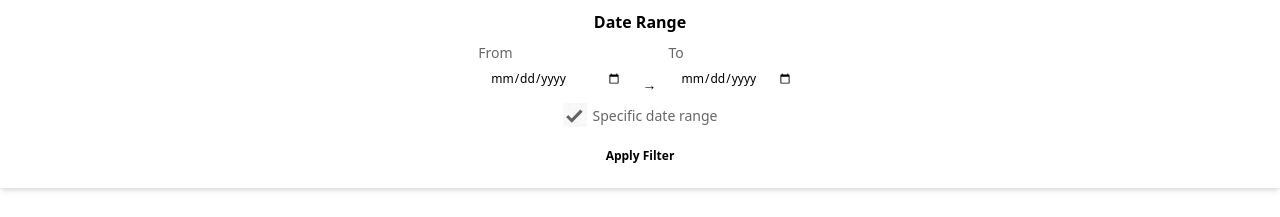
Test: DatePicker › shows month/year selects when checkbox is unchecked
Expected: the text "From" is shown, left=478, top=42, right=512, bottom=63
Expected: the text "To" is shown, left=668, top=42, right=684, bottom=63
Note: Uncheck the checkbox to switch to month/year mode
Click the checkbox labelled "Specific date range": (574, 115) left=562, top=103, right=586, bottom=127
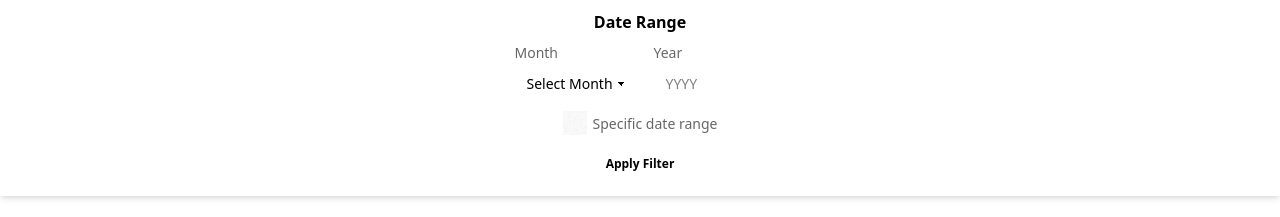
Expected: the number field with placeholder "YYYY" is shown, left=654, top=63, right=766, bottom=103
Now the dropdown showing "Select Month" is shown, box left=514, top=63, right=642, bottom=103
Now the text "From" is gone
